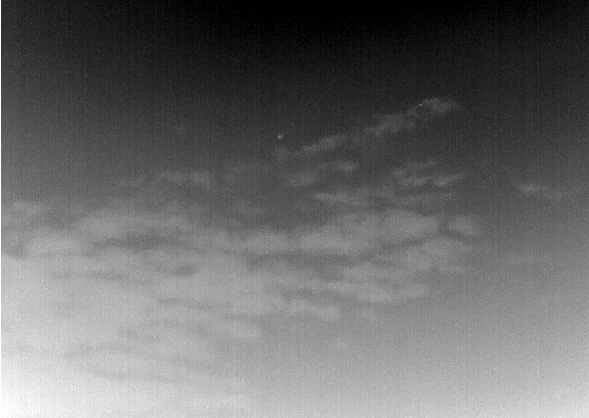dim target: (276, 133, 285, 139), (418, 102, 424, 107)
